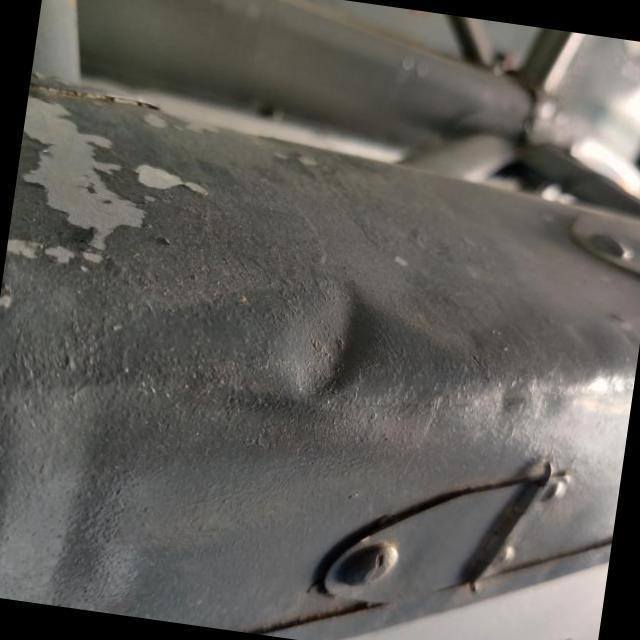Dent: (262, 255, 404, 428)
